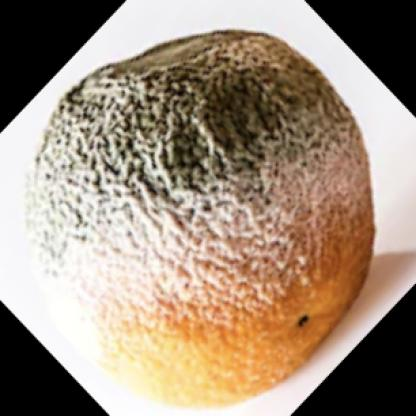rotten: (35, 30, 373, 409)
